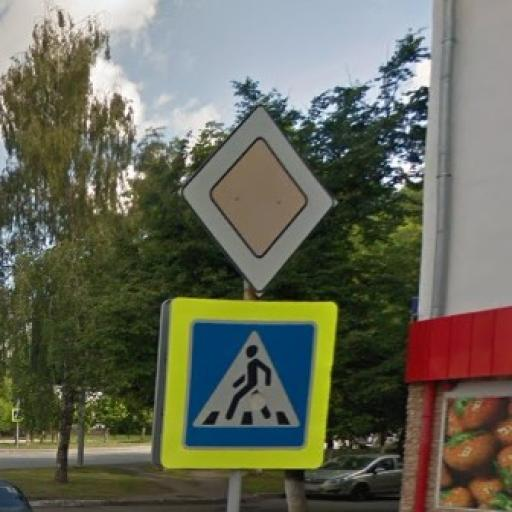traffic_sign: (164, 297, 339, 472), (181, 105, 336, 295)
